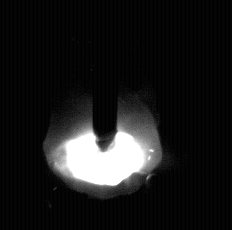arame: (93, 0, 118, 151)
poca: (42, 0, 163, 230)
